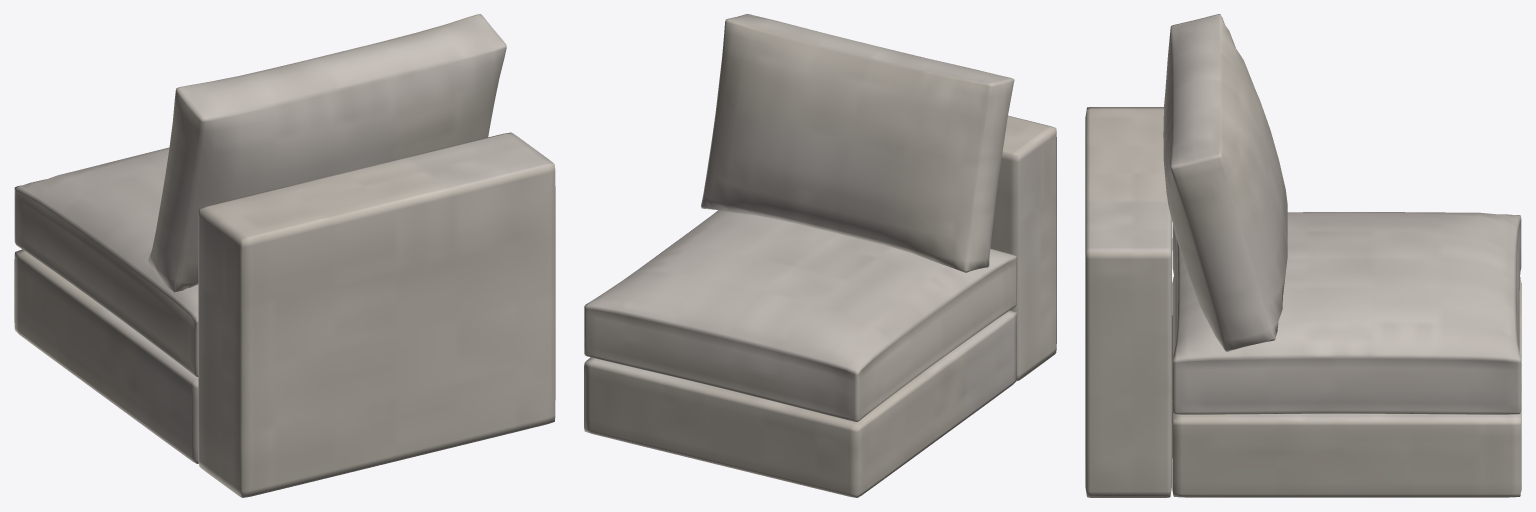
File: Sofa39.glb
3 renders of one model, left to right at view 1: azimuth 30°, elevation 25°; view 2: azimuth 150°, elevation 25°; view 3: azimuth 270°, elevation 25°, orthographic. The views are drawn at different scales.
Visible parts, largest first — view 1: Sofa39_model; view 2: Sofa39_model; view 3: Sofa39_model.
Boxes of the visible parts, bbox=[...] form: Sofa39_model: bbox=[14, 14, 555, 497]; Sofa39_model: bbox=[584, 14, 1056, 497]; Sofa39_model: bbox=[1085, 14, 1521, 497].
Size of the model in its own units: 1.43 by 1.56 by 1.8.
Materials: 1 (1 with a texture image).
